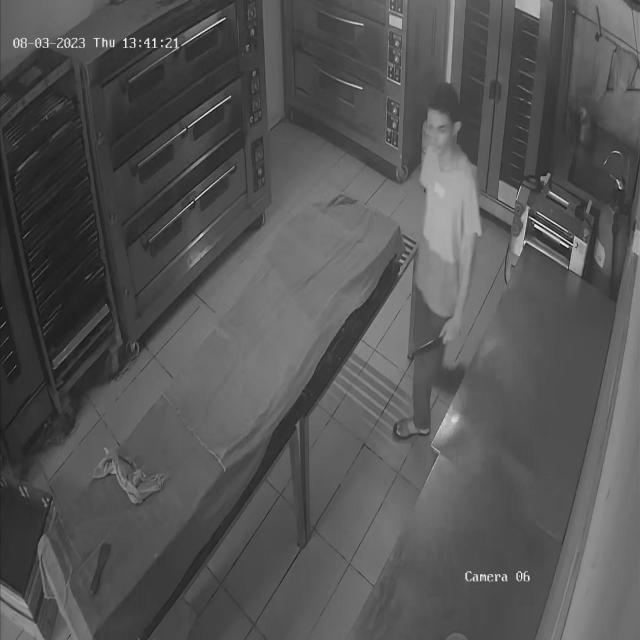Knife: (398, 324, 453, 368)
